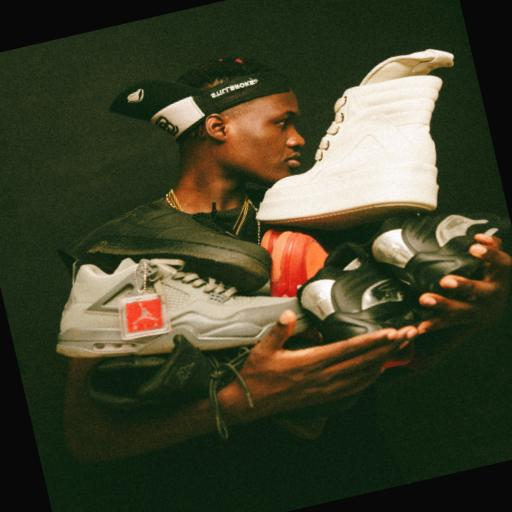shoe: (257, 50, 452, 229), (56, 259, 305, 357), (61, 200, 270, 293), (84, 335, 251, 439), (297, 243, 430, 344), (371, 213, 508, 297), (84, 335, 214, 415), (261, 230, 327, 297)
